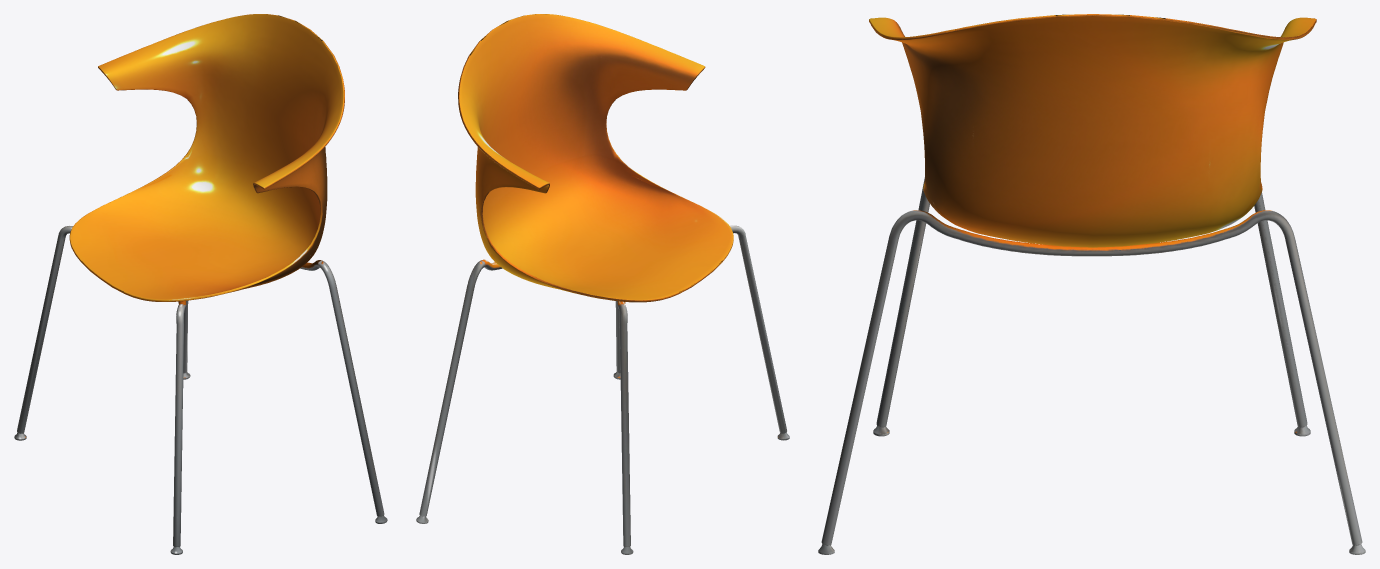
Rendered from forano_grey_chrome_plated.glb.
The picture shows the model from 3 angles, left to right: view 1: azimuth 30°, elevation 25°; view 2: azimuth 150°, elevation 25°; view 3: azimuth 270°, elevation 25°; orthographic projection. The views are drawn at different scales.
Visible parts, largest first — view 1: forano-orange; view 2: forano-orange; view 3: forano-orange.
Boxes of the visible parts, x1,y1,x2,y2 form: forano-orange: (14, 14, 387, 554); forano-orange: (416, 14, 789, 554); forano-orange: (818, 14, 1365, 554).
Size of the model in its own units: 0.5306 by 0.9638 by 0.8574.
Materials: 1 (1 with a texture image).
